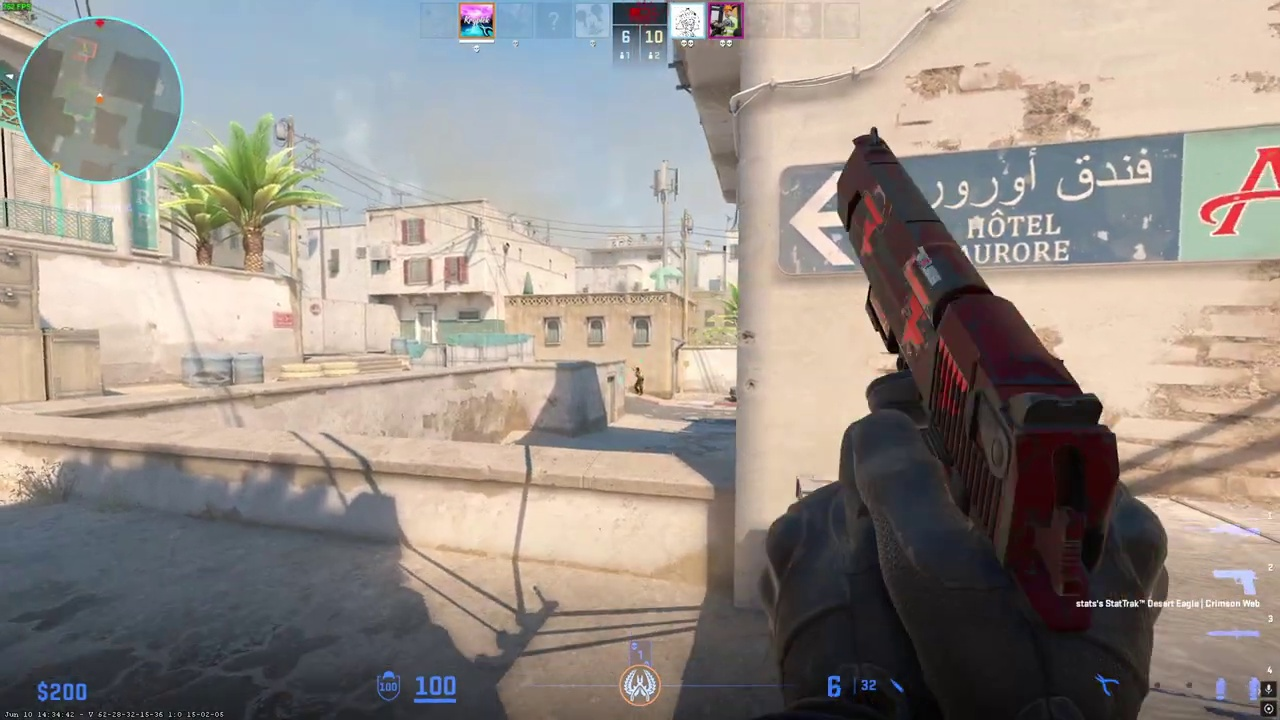Terrorist: (634, 367, 644, 395)
